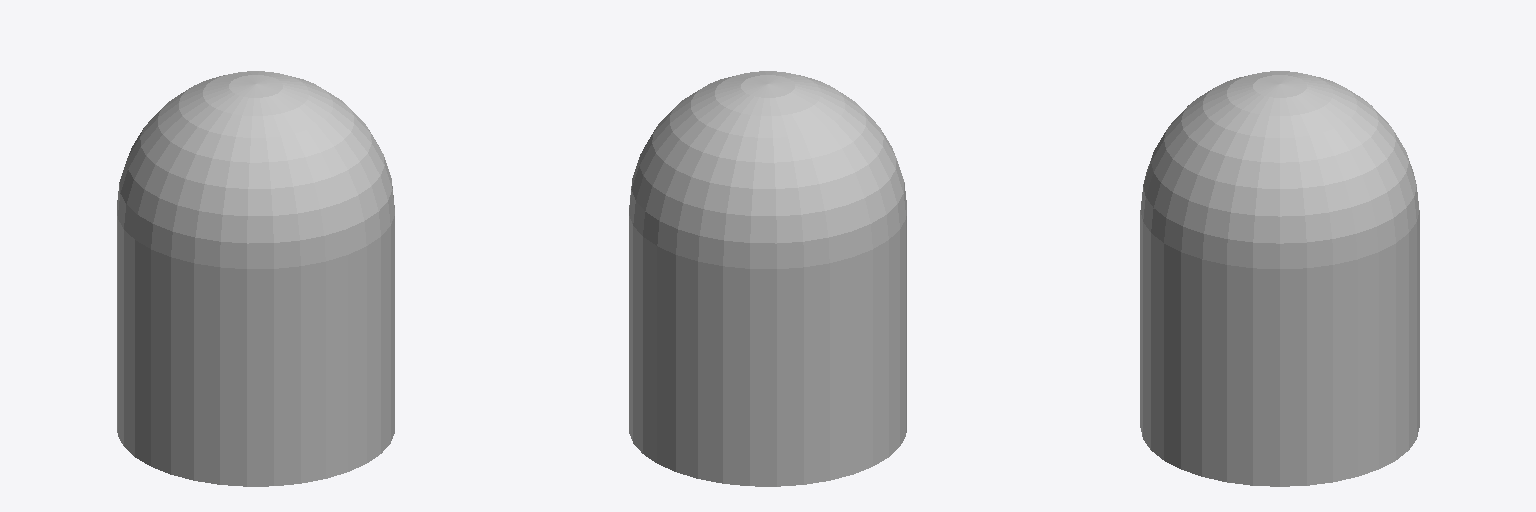
File: bulb.obj
3 views of the same model, side by side, from view 1: azimuth 30°, elevation 25°; view 2: azimuth 150°, elevation 25°; view 3: azimuth 270°, elevation 25° (orthographic).
Parts seen in each view (by area): view 1: Sphere.001; view 2: Sphere.001; view 3: Sphere.001.
Part boxes in pixels (x1,y1,x2,y2): Sphere.001: (117,71,394,486); Sphere.001: (629,71,906,486); Sphere.001: (1140,71,1419,486).
Size of the model in its own units: 0.9985 by 1.36 by 0.9985.